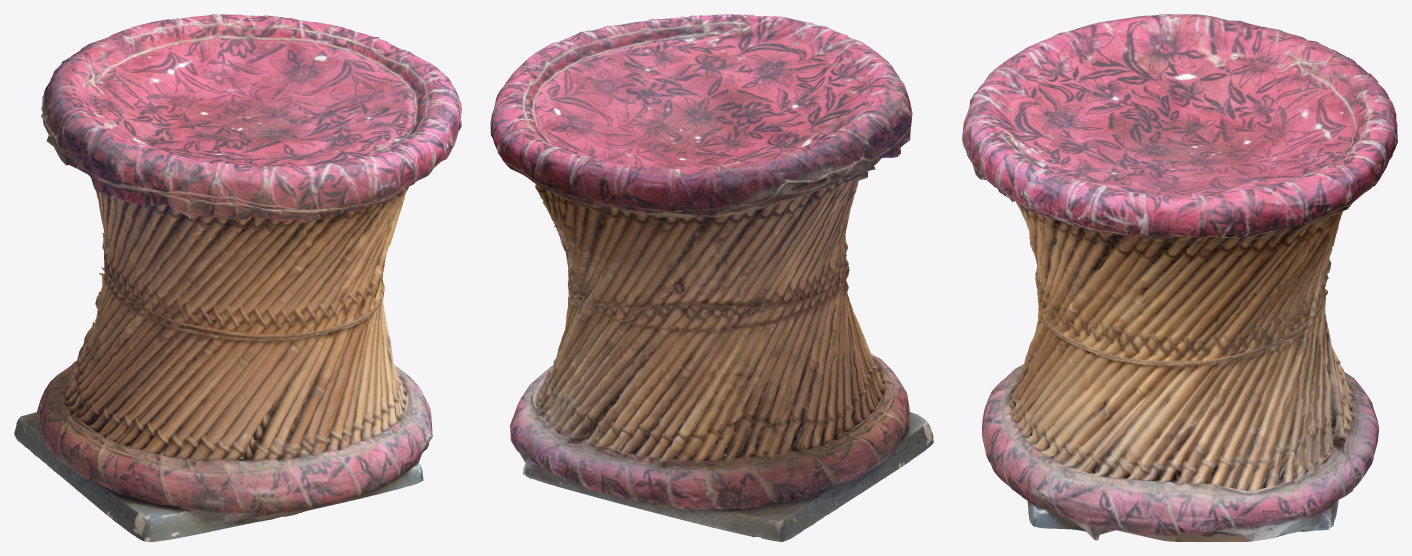
The model's file is old_chair_small-v1.glb.
The picture shows the model from 3 angles, left to right: view 1: azimuth 30°, elevation 25°; view 2: azimuth 150°, elevation 25°; view 3: azimuth 270°, elevation 25°; orthographic projection. The views are drawn at different scales.
Visible parts, largest first — view 1: Object_4, Object_5, Object_3, Object_6, Object_2; view 2: Object_3, Object_4, Object_2, Object_5, Object_6; view 3: Object_4, Object_2, Object_5, Object_6, Object_3.
Boxes of the visible parts, bbox=[...] form: Object_4: bbox=[41, 14, 461, 541]; Object_5: bbox=[41, 14, 461, 528]; Object_3: bbox=[14, 192, 421, 541]; Object_6: bbox=[18, 190, 432, 507]; Object_2: bbox=[96, 186, 425, 424]; Object_3: bbox=[517, 184, 933, 541]; Object_4: bbox=[490, 14, 933, 484]; Object_2: bbox=[510, 178, 861, 521]; Object_5: bbox=[490, 14, 929, 477]; Object_6: bbox=[512, 201, 884, 538]; Object_4: bbox=[963, 14, 1397, 519]; Object_2: bbox=[1015, 201, 1378, 541]; Object_5: bbox=[962, 14, 1397, 529]; Object_6: bbox=[984, 203, 1336, 541]; Object_3: bbox=[982, 186, 1378, 541].
Bounding box in the file's own units: 0.6849 × 0.6584 × 0.6849.
1 material, 1 textured.
